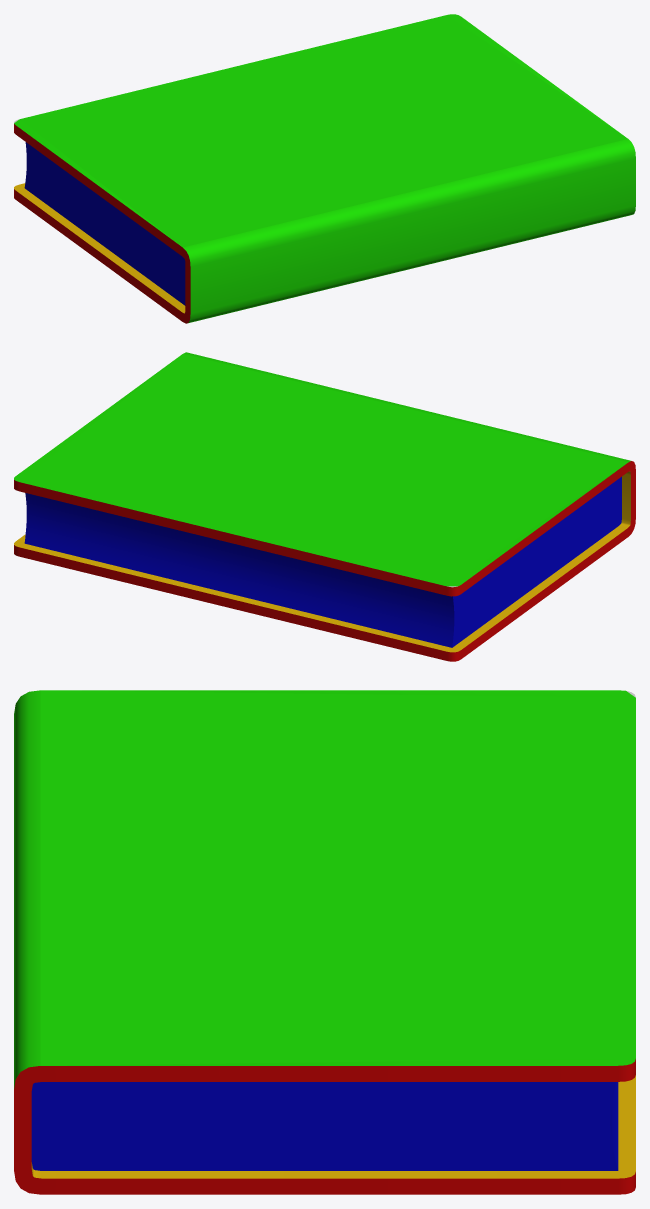
File: CT_Book.fbx
3 renders of one model, top to bottom at view 1: azimuth 30°, elevation 25°; view 2: azimuth 150°, elevation 25°; view 3: azimuth 270°, elevation 25°, orthographic. The views are drawn at different scales.
Visible parts, largest first — view 1: CT_Book - low; view 2: CT_Book - low; view 3: CT_Book - low.
Part boxes in pixels (left/top/right/bottom): CT_Book - low: left=14, top=14, right=635, bottom=323; CT_Book - low: left=14, top=352, right=635, bottom=661; CT_Book - low: left=14, top=690, right=635, bottom=1194.
Bounding box in the file's own units: 0.5 × 0.08 × 0.35.
